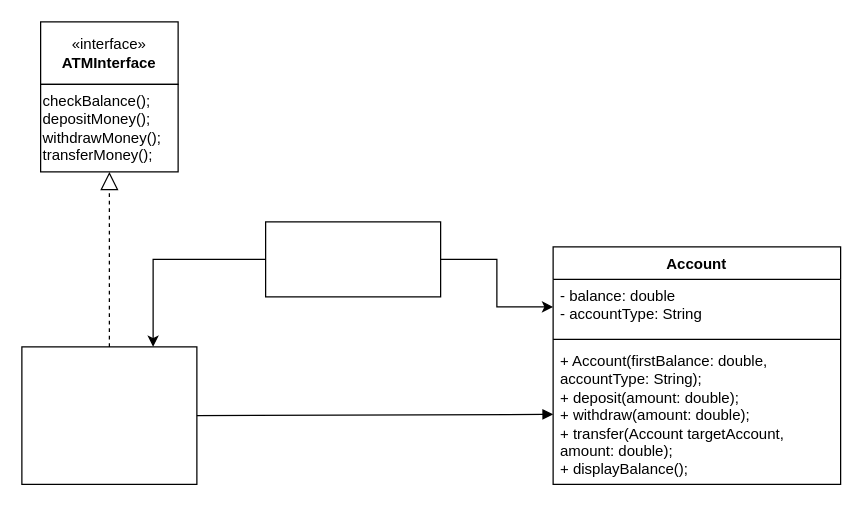
The diagram is 863 pixels wide and 510 high, and some of its shapes have lost their labels. The box of each missing label's shape, as (x1, y1, x2, y2) in pixels:
ATM + main(args: String);: (264, 221, 441, 297)
ATMOperations checkBalance(); depositMoney(); withdrawMoney(); transferMoney();: (21, 346, 197, 484)
